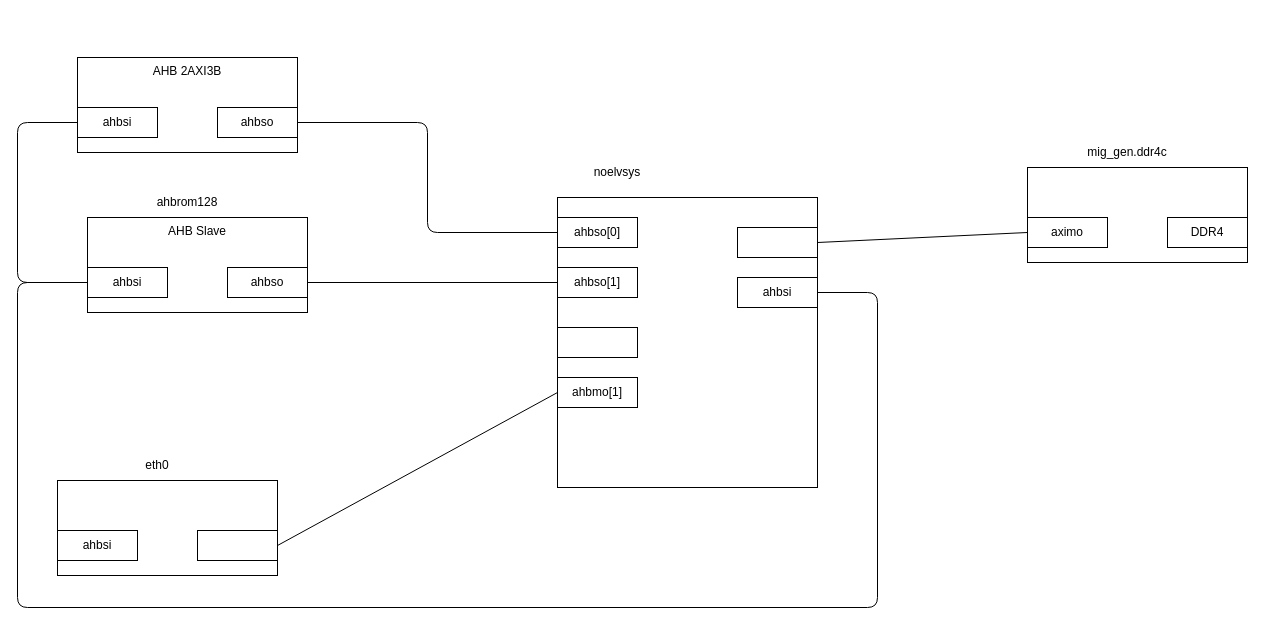
The diagram is 1265 pixels wide and 626 high, and some of its shapes have lost their labels. The shapes that lost their labels are listed below. From the top down, each one's box as (x1, y1, x2, y2) in pixels, then its label:
(1026, 166, 1248, 262): AXI_MIG4_7
(736, 226, 818, 258): mem_aximo
(556, 326, 638, 358): ahbso[2]
(56, 480, 278, 576): AHB Master
(196, 530, 278, 560): ahbmo
